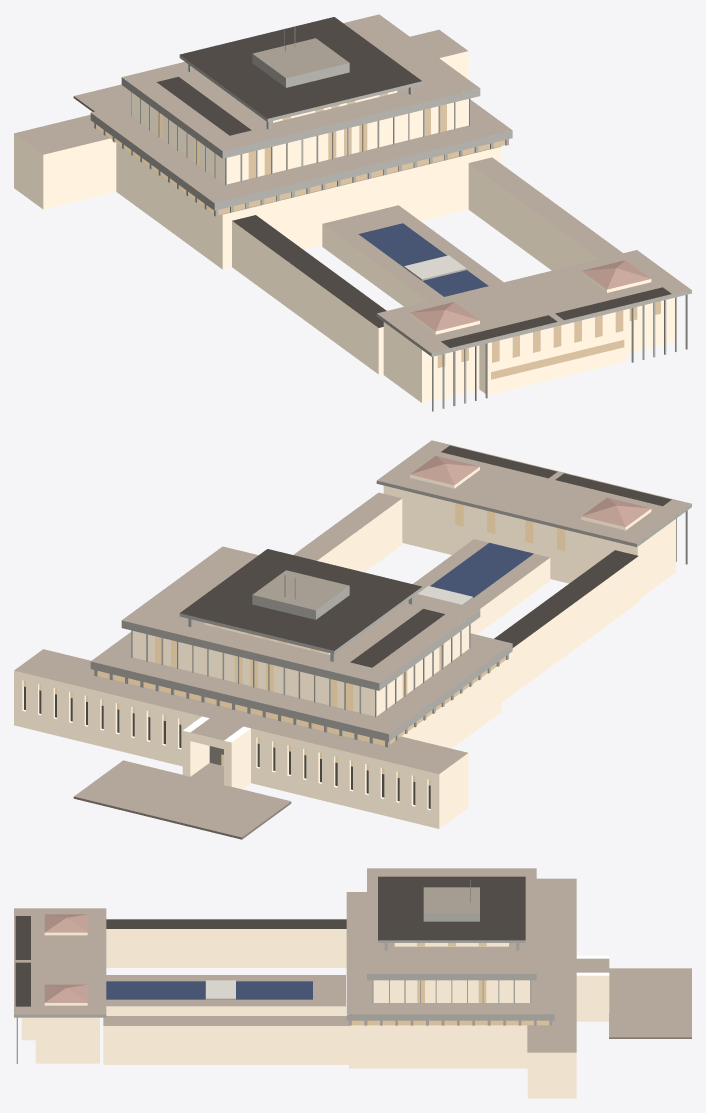
The model's file is aiwan_e_sadr.glb.
3 renders of one model, top to bottom at view 1: azimuth 30°, elevation 25°; view 2: azimuth 150°, elevation 25°; view 3: azimuth 270°, elevation 25°, orthographic. The views are drawn at different scales.
Parts seen in each view (by area): view 1: m_wall_white, m_roof_paving, m_roof_solar, m_fascia_white, m_window_dark, m_pier_white, m_skylight_blue, m_pavilion_terracotta, m_roof_diamond; view 2: m_wall_white, m_roof_paving, m_roof_solar, m_fascia_white, m_window_dark, m_pier_white, m_skylight_blue, m_pavilion_terracotta, m_roof_diamond, m_slot_recess; view 3: m_wall_white, m_roof_paving, m_roof_solar, m_fascia_white, m_skylight_blue, m_pavilion_terracotta, m_roof_diamond, m_window_dark, m_pier_white.
Boxes of the visible parts, x1,y1,x2,y2 form: m_wall_white: [14, 51, 674, 403]; m_roof_paving: [14, 14, 691, 353]; m_roof_solar: [156, 17, 671, 347]; m_fascia_white: [90, 54, 691, 356]; m_window_dark: [97, 93, 660, 379]; m_pier_white: [94, 64, 687, 411]; m_skylight_blue: [358, 223, 488, 296]; m_pavilion_terracotta: [410, 260, 650, 331]; m_roof_diamond: [253, 38, 349, 78]; m_wall_white: [14, 467, 675, 828]; m_roof_paving: [14, 440, 691, 839]; m_roof_solar: [180, 445, 671, 667]; m_fascia_white: [90, 480, 691, 741]; m_window_dark: [23, 503, 565, 785]; m_pier_white: [94, 510, 687, 747]; m_skylight_blue: [430, 542, 533, 597]; m_pavilion_terracotta: [410, 456, 650, 526]; m_roof_diamond: [252, 570, 348, 610]; m_slot_recess: [24, 686, 430, 808]; m_wall_white: [21, 929, 609, 1098]; m_roof_paving: [14, 868, 691, 1052]; m_roof_solar: [15, 876, 525, 1006]; m_fascia_white: [14, 913, 554, 1020]; m_skylight_blue: [106, 981, 312, 999]; m_pavilion_terracotta: [44, 914, 87, 1002]; m_roof_diamond: [423, 887, 479, 913]; m_window_dark: [351, 943, 549, 1025]; m_pier_white: [16, 943, 552, 1063].
Bounding box in the file's own units: 134 × 46.4 × 220.
